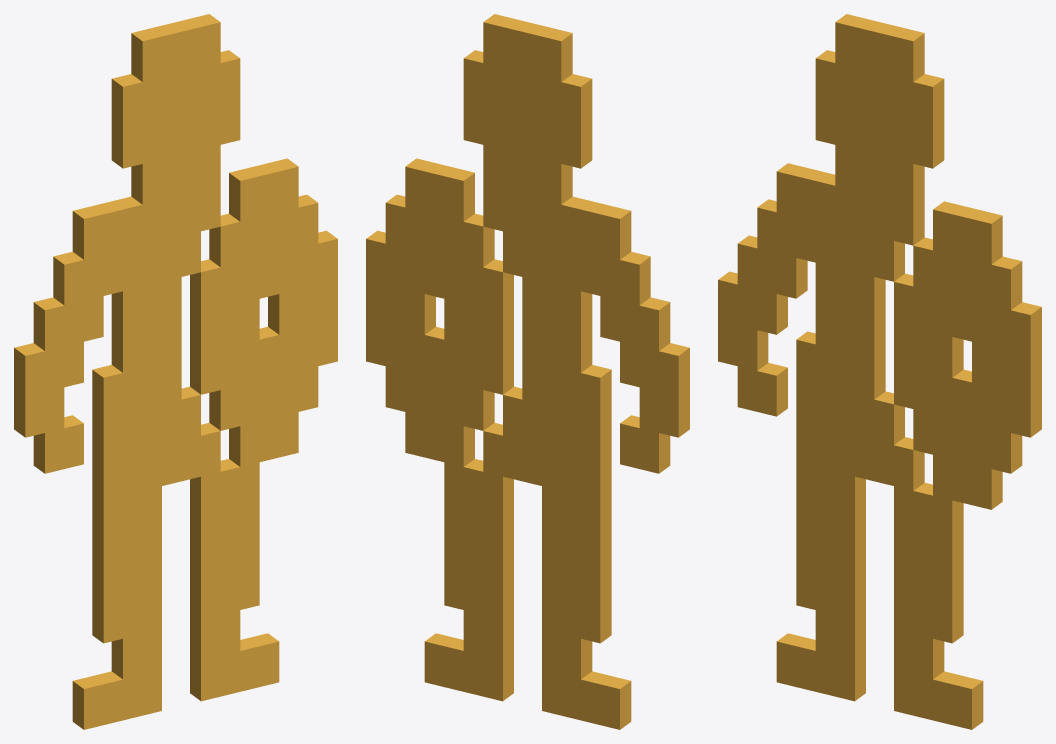
File: Giant-Shield-Orange.vox.obj
3 renders of one model, left to right at view 1: azimuth 30°, elevation 25°; view 2: azimuth 150°, elevation 25°; view 3: azimuth 330°, elevation 25°, orthographic.
Size of the model in its own units: 1.6 by 3.3 by 0.1.
1 material, 1 textured.
